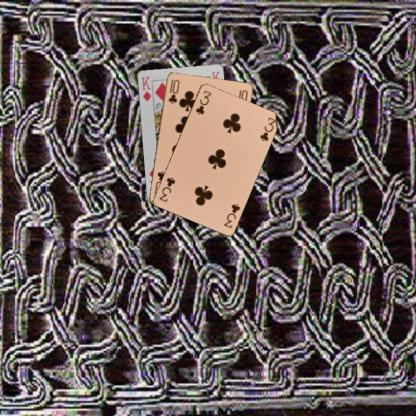10c: (166, 76, 181, 105)
3c: (221, 201, 241, 230), (193, 88, 213, 115)
Kd: (139, 74, 152, 102)
